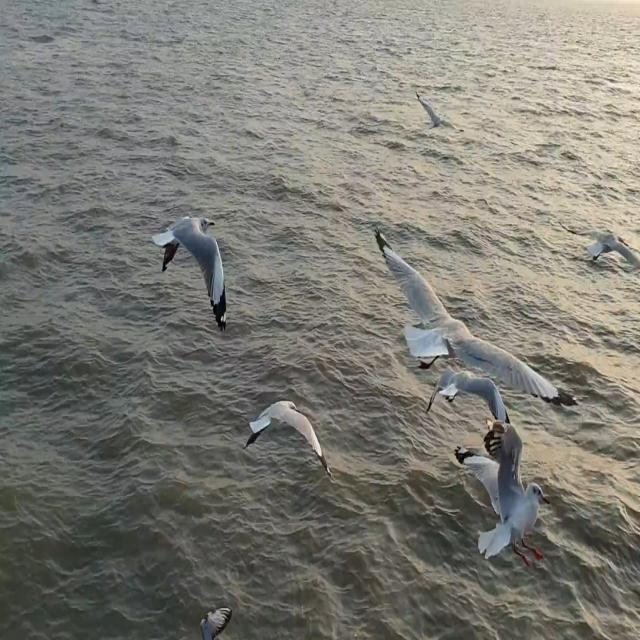bird: (373, 224, 587, 420), (442, 436, 552, 578), (151, 200, 232, 340), (242, 390, 334, 491), (423, 358, 519, 438), (559, 216, 640, 277), (413, 85, 458, 141), (194, 598, 233, 640)
